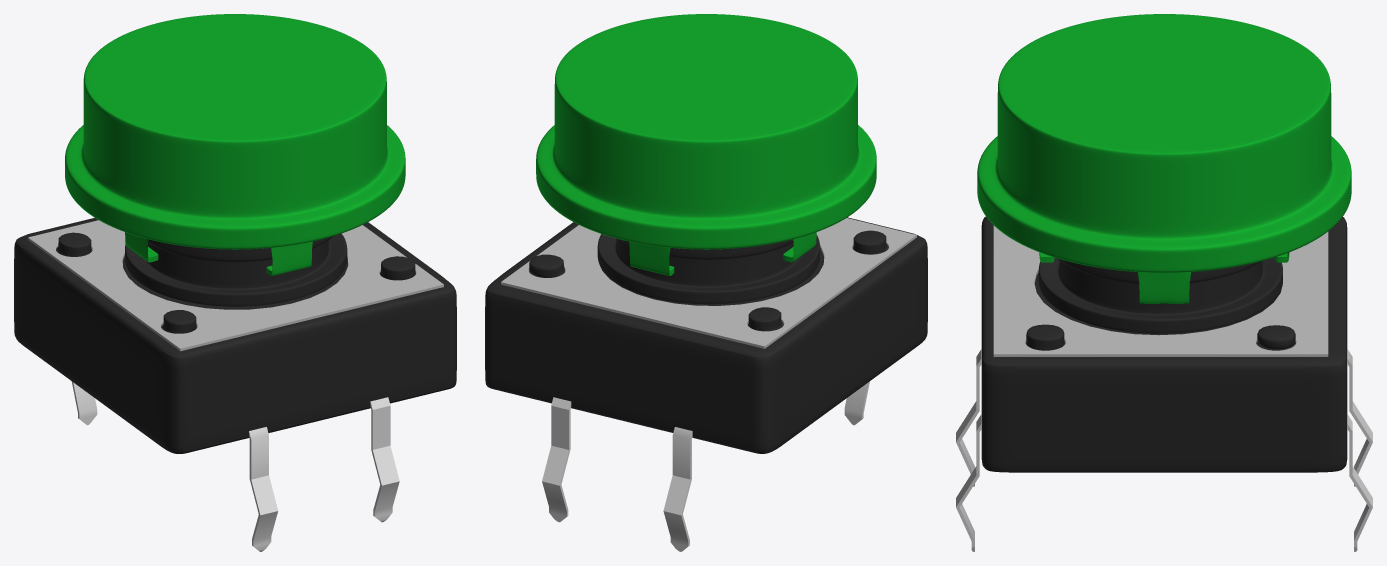
File: push_button.glb
3 views of the same model, side by side, from view 1: azimuth 30°, elevation 25°; view 2: azimuth 150°, elevation 25°; view 3: azimuth 270°, elevation 25° (orthographic). The views are drawn at different scales.
Parts seen in each view (by area): view 1: JUMPER_VERDE-material, preto_001-material, metal-material, Metal_018-material; view 2: JUMPER_VERDE-material, preto_001-material, metal-material, Metal_018-material; view 3: JUMPER_VERDE-material, preto_001-material, metal-material, Metal_018-material.
Boxes of the visible parts, <box> form: JUMPER_VERDE-material: <box>65,14,405,276</box>; preto_001-material: <box>14,218,456,453</box>; metal-material: <box>28,220,443,351</box>; Metal_018-material: <box>71,381,399,551</box>; JUMPER_VERDE-material: <box>536,14,876,275</box>; preto_001-material: <box>485,217,927,453</box>; metal-material: <box>501,218,916,348</box>; Metal_018-material: <box>542,381,869,551</box>; JUMPER_VERDE-material: <box>977,14,1351,303</box>; preto_001-material: <box>981,216,1347,472</box>; metal-material: <box>993,225,1328,356</box>; Metal_018-material: <box>956,349,1372,551</box>.
Size of the model in its own units: 0.0123 by 0.0158 by 0.0137.
